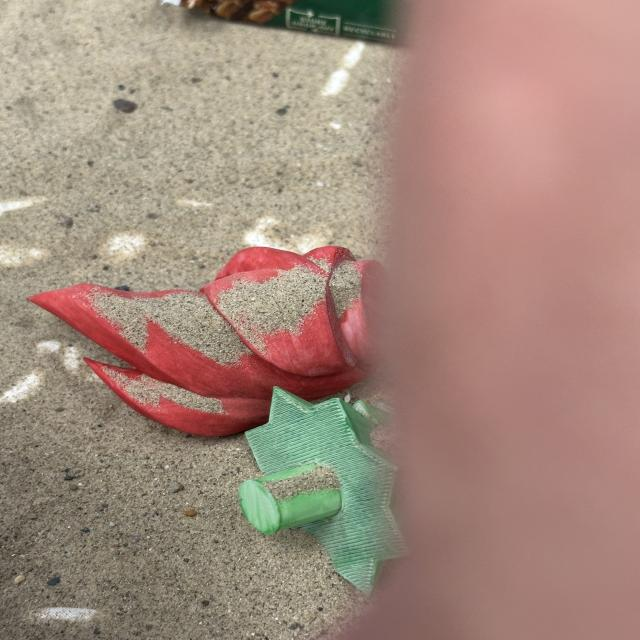fire: (26, 243, 385, 438)
tree: (237, 385, 409, 597)
